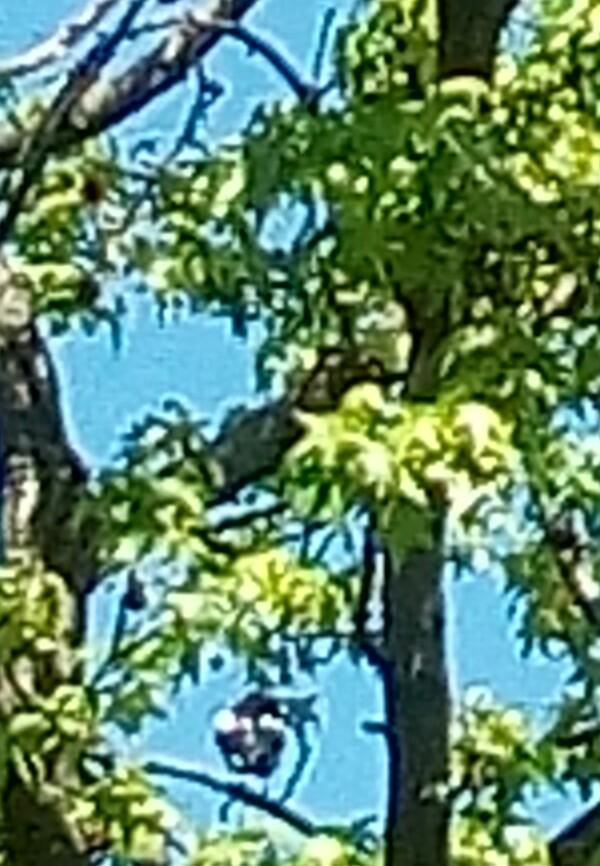Pica_pica: (208, 691, 321, 799)
